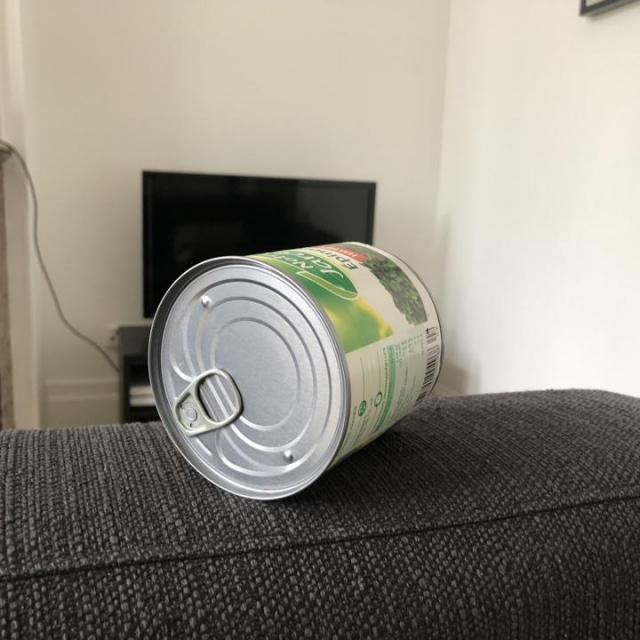metal-can: (145, 237, 448, 505)
